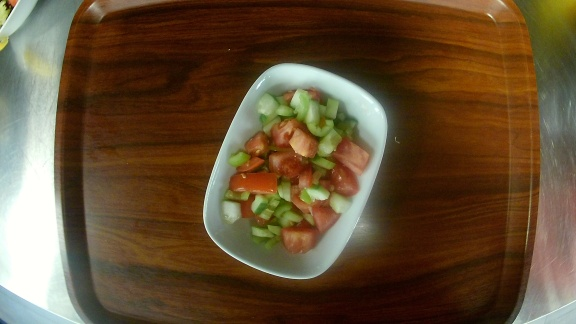cobansalata: (203, 62, 388, 281)
